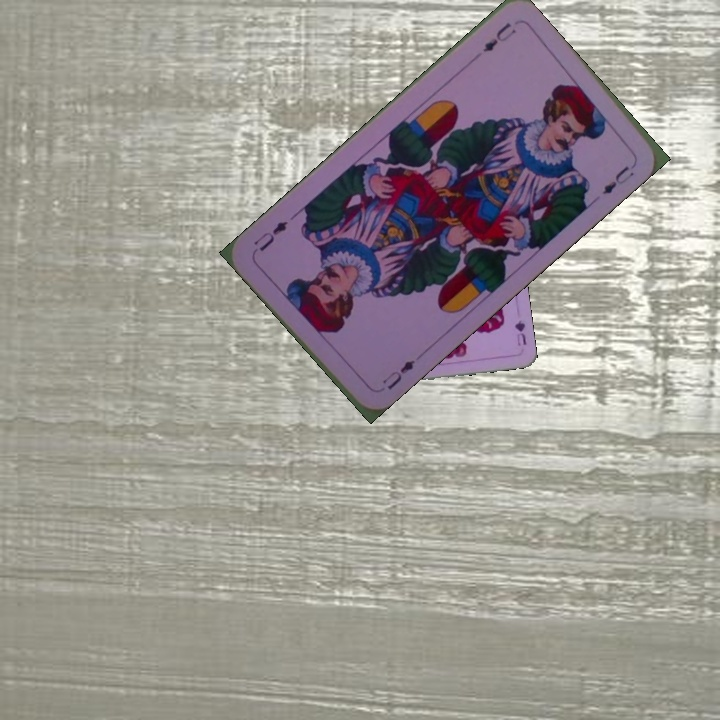EU: (378, 355, 418, 393), (478, 18, 519, 55)
GU: (510, 316, 529, 348)
